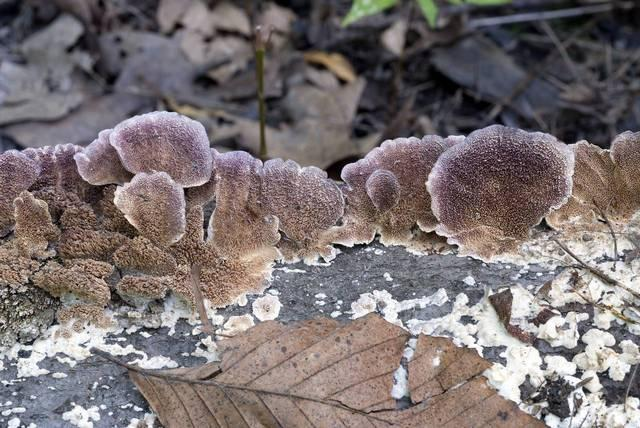poisonous_mushroom: (0, 99, 640, 300), (424, 123, 575, 260)
